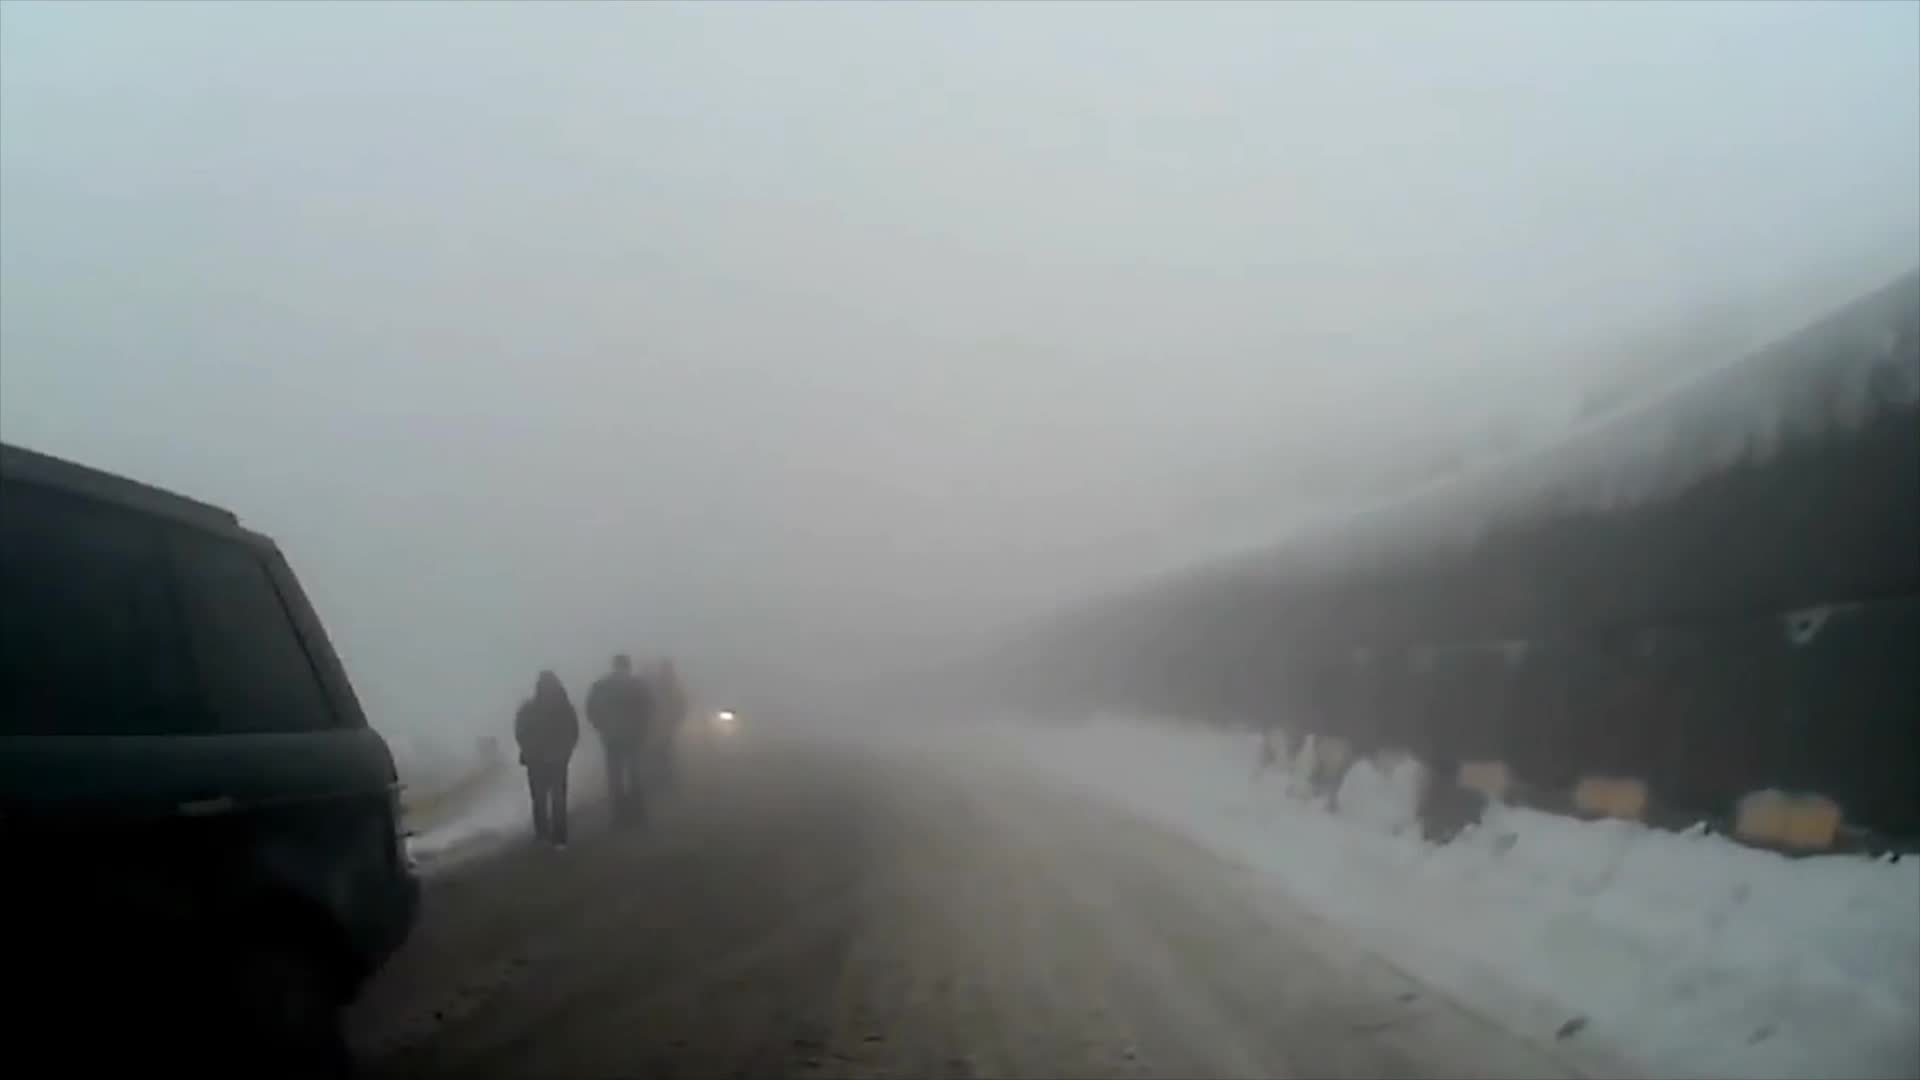pedestrian: (511, 671, 584, 850), (585, 652, 655, 829), (640, 655, 694, 820)
vehicle: (0, 404, 422, 1079)
